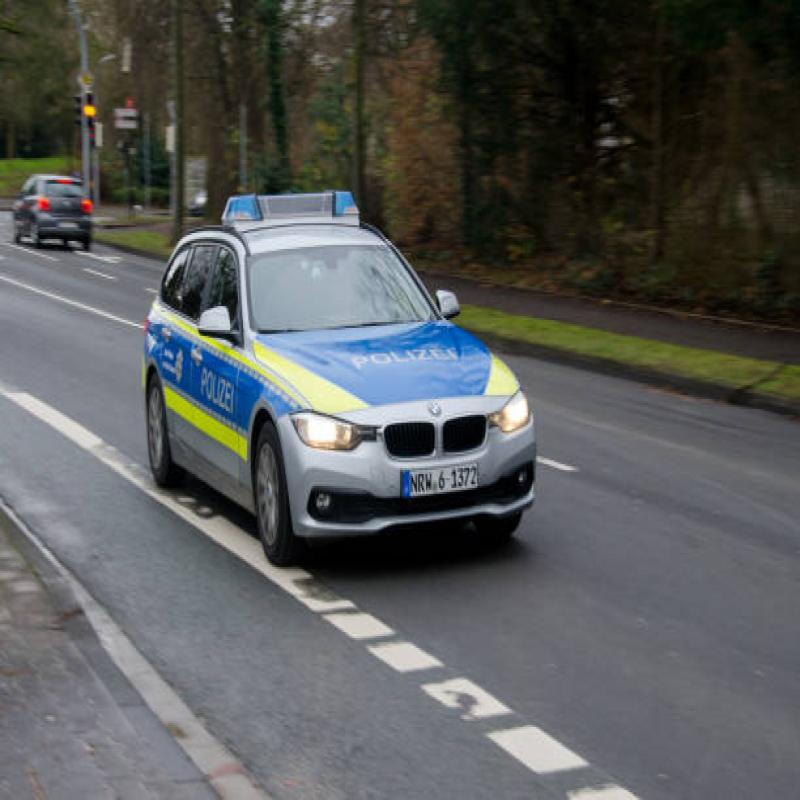AmbulanceSiren: (207, 169, 369, 240)
